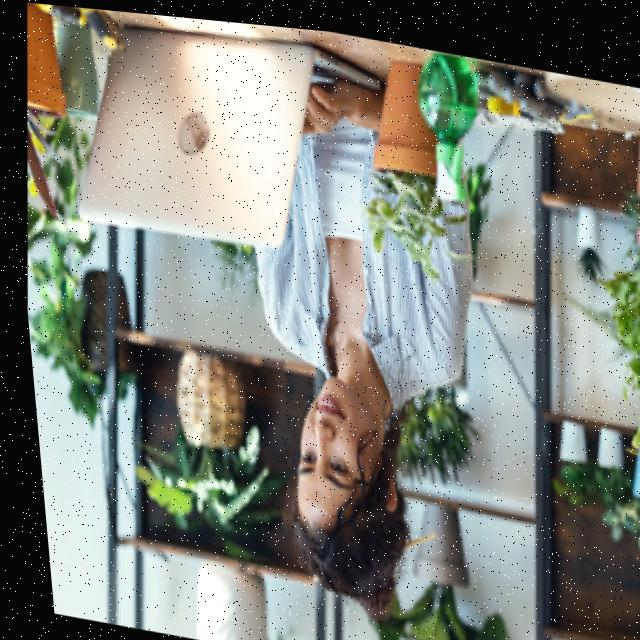notebook-person: (21, 2, 525, 631)
